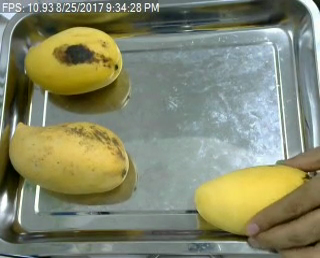Mango: (9, 121, 128, 194), (195, 164, 313, 236), (24, 25, 123, 93)
